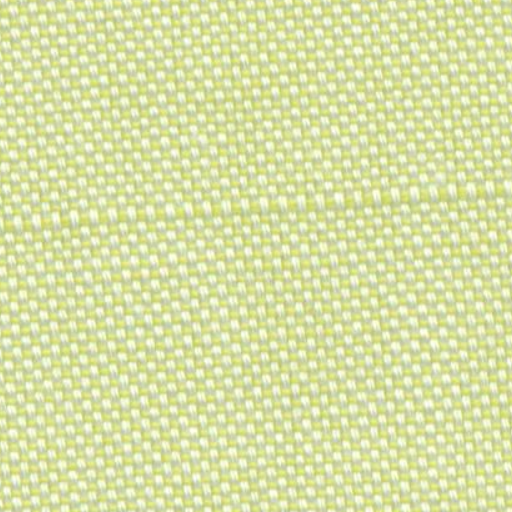TuoSha: (6, 163, 501, 242)
